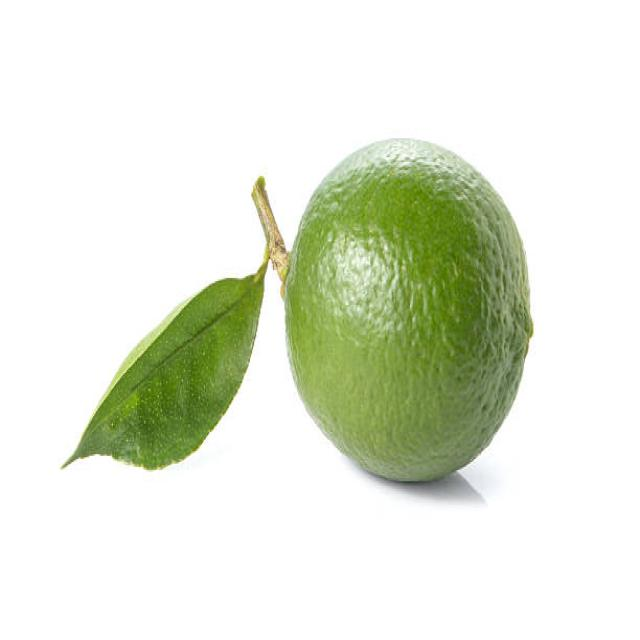Unripe: (283, 134, 534, 484)
